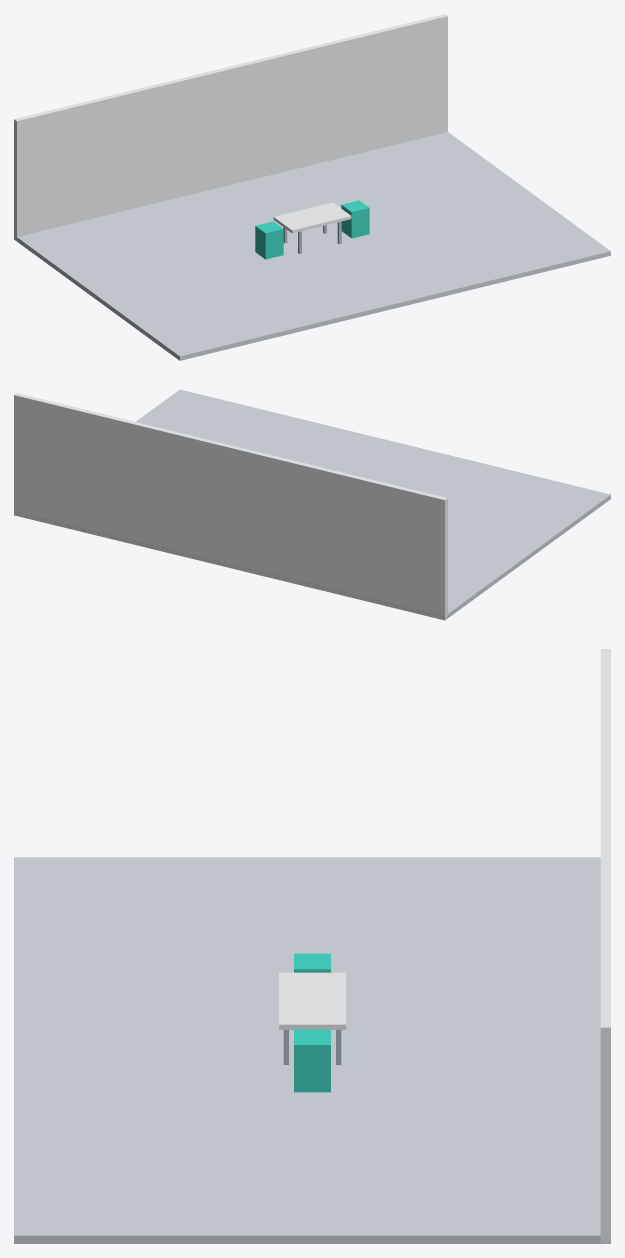
3 views of the same model, one above another, from view 1: azimuth 30°, elevation 25°; view 2: azimuth 150°, elevation 25°; view 3: azimuth 270°, elevation 25° (orthographic). The views are drawn at different scales.
Parts seen in each view (by area): view 1: Exhibition Booth Concept; view 2: Exhibition Booth Concept; view 3: Exhibition Booth Concept.
Boxes of the visible parts, x1=… form: Exhibition Booth Concept: x1=14, y1=14, x2=610, y2=360; Exhibition Booth Concept: x1=14, y1=389, x2=610, y2=620; Exhibition Booth Concept: x1=14, y1=649, x2=610, y2=1243.
Size of the model in its own units: 12 by 3.2 by 8.
